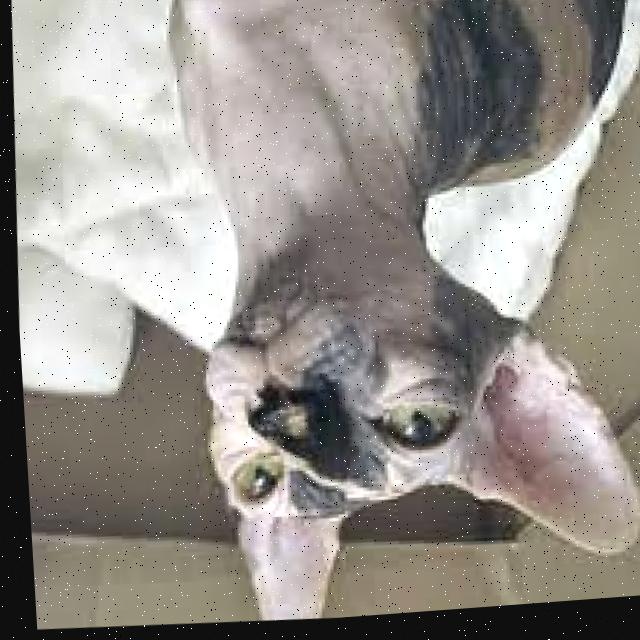Sphynx: (139, 0, 640, 632)
